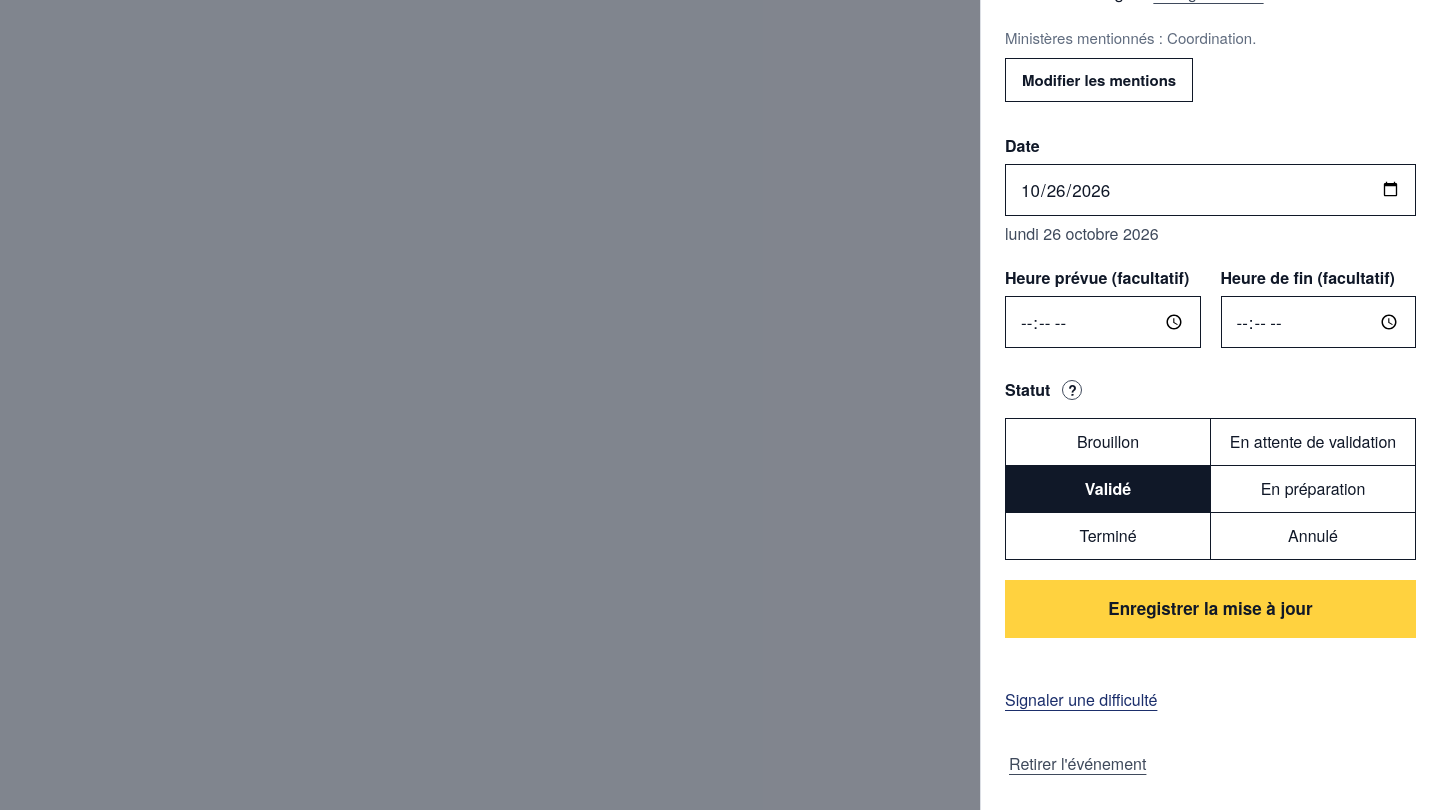
Test: panneau du porteur, après un état final (T78) › le refus de la base, si l’état a changé entre-temps, se dit traduit dans la fenêtre
The width and height of the screenshot is (1440, 810).
(page scrolled)
Step 1. Click the button "Retirer l'événement" → (1078, 764), box [1005,742,1150,786]
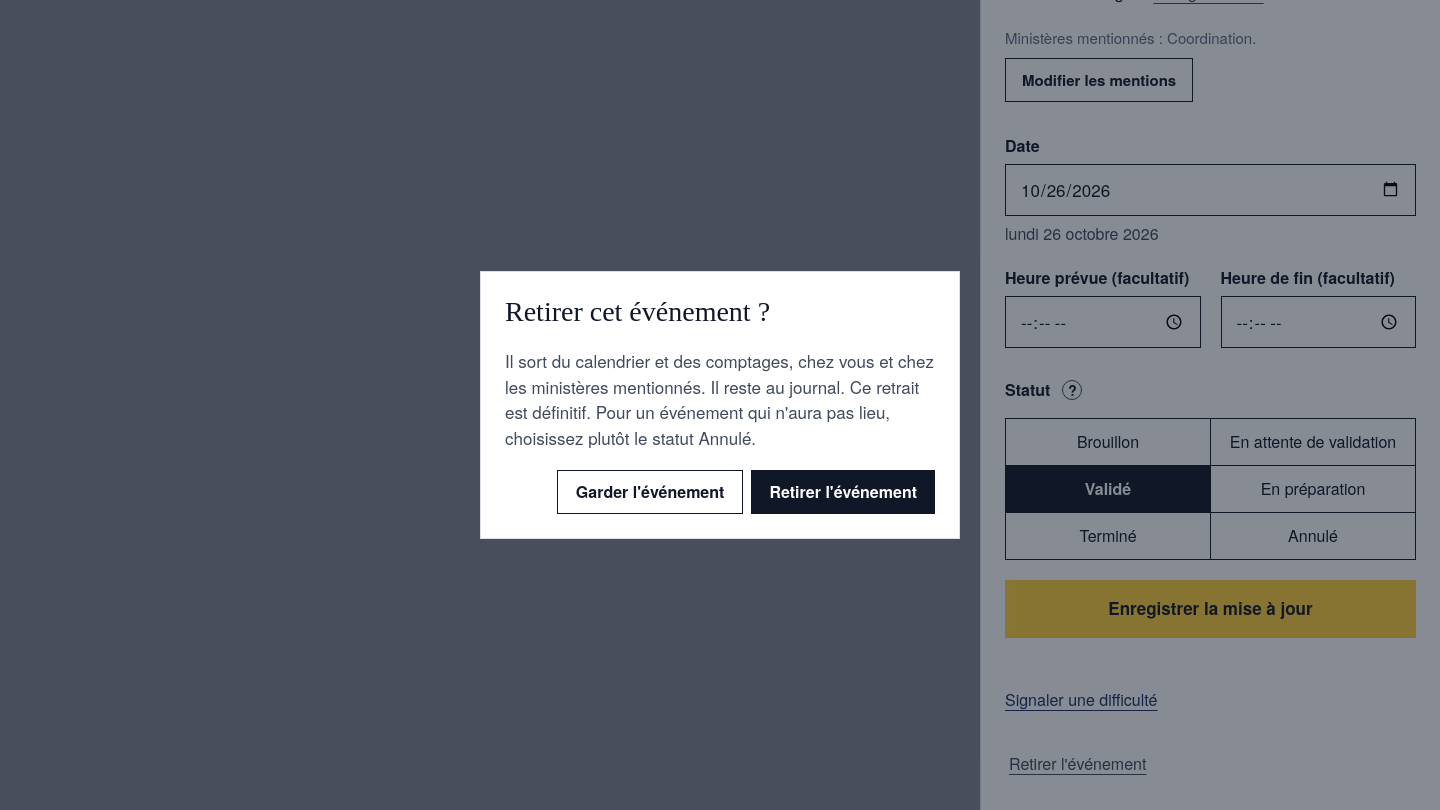
Step 2. Click the button named "Retirer l'événement" → (843, 492), box [751,470,935,514]
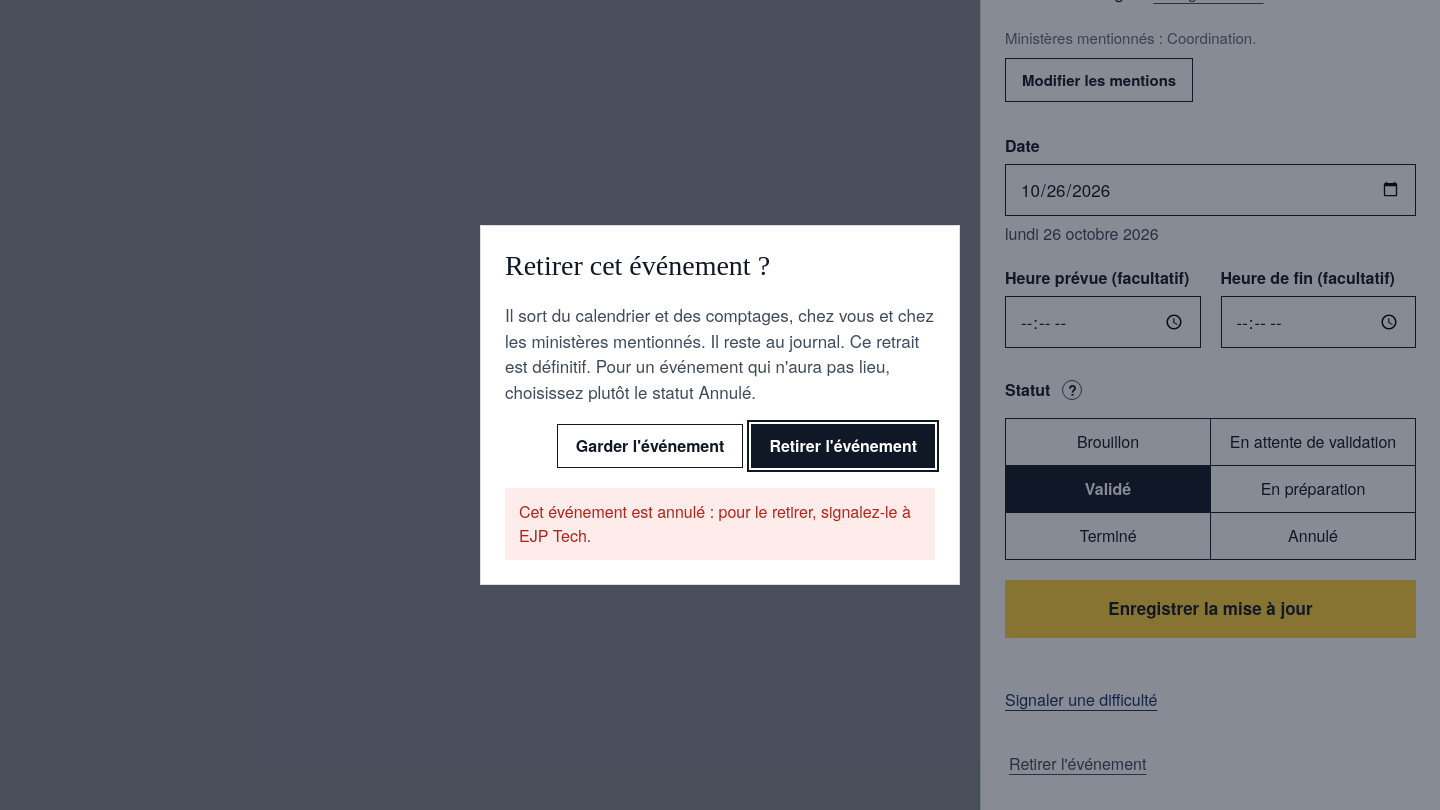
Check: the text "Cet événement est annulé : pour le retirer, signalez-le à EJP Tech." is shown, box [505,488,935,560]
